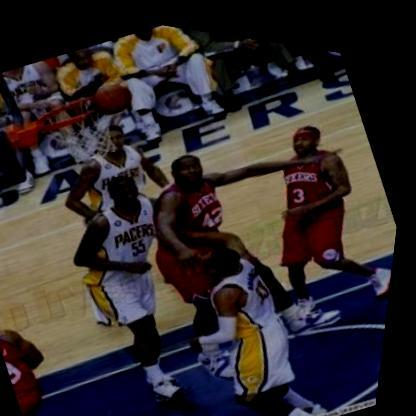basketball: (86, 70, 141, 121)
